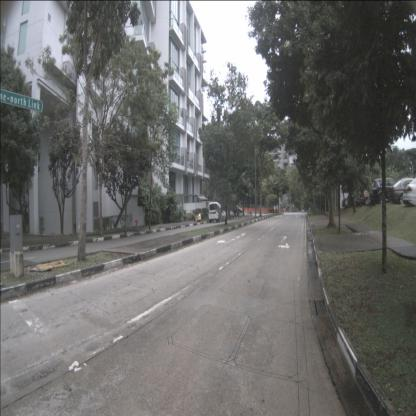movable_object-barrier: (239, 207, 245, 212), (268, 208, 274, 212), (256, 208, 260, 213), (261, 208, 265, 213), (244, 207, 248, 212), (251, 208, 255, 212), (265, 208, 268, 213)
vehicle-car: (372, 178, 404, 204), (388, 178, 416, 206), (356, 188, 380, 206), (402, 177, 416, 206), (209, 202, 228, 223), (347, 192, 364, 208), (342, 196, 355, 208), (229, 204, 243, 214)
